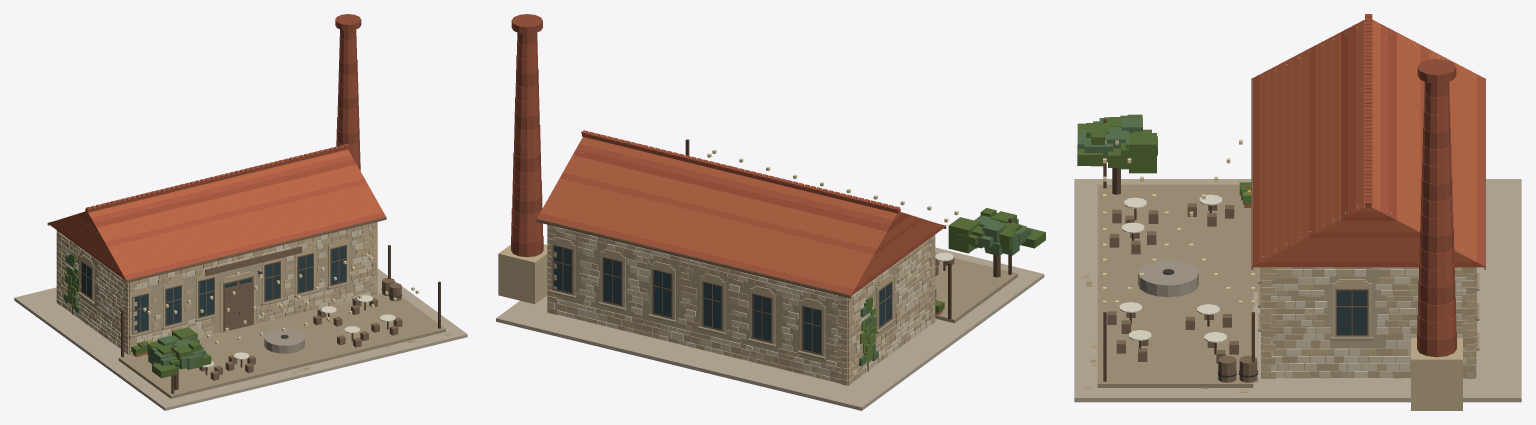
File: sade-meyhane.glb
The picture shows the model from 3 angles, left to right: view 1: azimuth 30°, elevation 25°; view 2: azimuth 150°, elevation 25°; view 3: azimuth 270°, elevation 25°; orthographic projection. The views are drawn at different scales.
Visible parts, largest first — view 1: kiremit1, tas_koyu, zemin, ahsap, tas2, kiremit2, harc, tas3, cam, kiremit4, tas4, tas1 (+8 smaller); view 2: kiremit1, zemin, tas2, kiremit2, harc, tas3, cam, tas4, tas1, tugla, ahsap, tas_koyu (+6 smaller); view 3: kiremit1, tas_koyu, zemin, kiremit2, tas2, tugla, tas3, ahsap, tugla2, tas4, harc, kiremit4 (+8 smaller).
Part boxes in pixels (x1=…): kiremit1: x1=51, y1=149, x2=383, y2=275; tas_koyu: x1=78, y1=282, x2=445, y2=398; zemin: x1=14, y1=268, x2=467, y2=410; ahsap: x1=47, y1=217, x2=402, y2=380; tas2: x1=56, y1=155, x2=377, y2=354; kiremit2: x1=48, y1=144, x2=386, y2=281; harc: x1=61, y1=227, x2=371, y2=345; tas3: x1=56, y1=176, x2=450, y2=373; cam: x1=81, y1=246, x2=345, y2=332; kiremit4: x1=77, y1=146, x2=356, y2=227; tas4: x1=59, y1=162, x2=376, y2=351; tas1: x1=59, y1=183, x2=376, y2=345; kiremit1: x1=540, y1=137, x2=942, y2=289; zemin: x1=496, y1=247, x2=1044, y2=410; tas2: x1=498, y1=143, x2=935, y2=385; kiremit2: x1=536, y1=130, x2=945, y2=296; harc: x1=554, y1=226, x2=928, y2=380; tas3: x1=547, y1=169, x2=935, y2=385; cam: x1=554, y1=246, x2=891, y2=353; tas4: x1=548, y1=152, x2=932, y2=377; tas1: x1=552, y1=178, x2=934, y2=380; tugla: x1=511, y1=41, x2=542, y2=242; ahsap: x1=536, y1=218, x2=954, y2=355; tas_koyu: x1=548, y1=253, x2=1017, y2=359; kiremit1: x1=1260, y1=19, x2=1476, y2=262; tas_koyu: x1=1086, y1=184, x2=1479, y2=388; zemin: x1=1074, y1=179, x2=1521, y2=402; kiremit2: x1=1251, y1=14, x2=1485, y2=267; tas2: x1=1261, y1=27, x2=1476, y2=410; tugla: x1=1417, y1=92, x2=1456, y2=339; tas3: x1=1083, y1=33, x2=1476, y2=392; ahsap: x1=1107, y1=78, x2=1485, y2=382; tugla2: x1=1417, y1=59, x2=1456, y2=357; tas4: x1=1261, y1=45, x2=1475, y2=377; harc: x1=1271, y1=267, x2=1465, y2=377; kiremit4: x1=1340, y1=28, x2=1397, y2=220.
Bounding box in the file's own units: 23.49 × 15.8 × 19.
